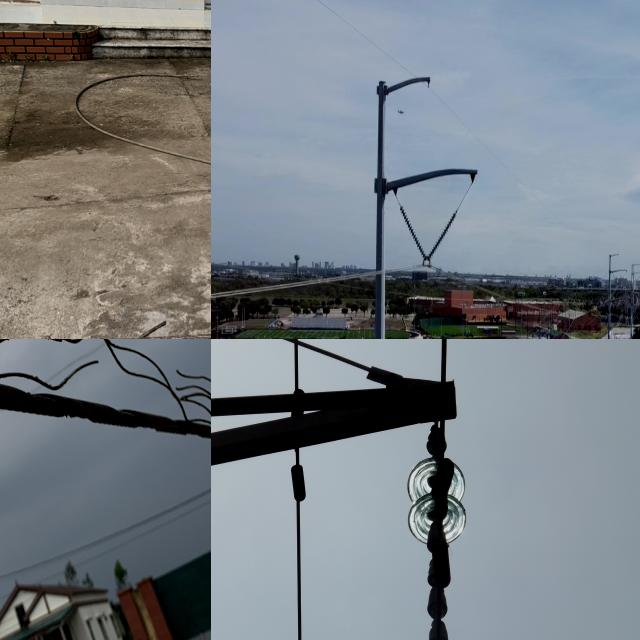正常绝缘子: (408, 451, 467, 640), (414, 198, 468, 281), (392, 192, 436, 276)
电缆破损: (0, 339, 211, 453)
绝缘子破损: (426, 532, 449, 565), (427, 571, 451, 601), (427, 602, 448, 632)
